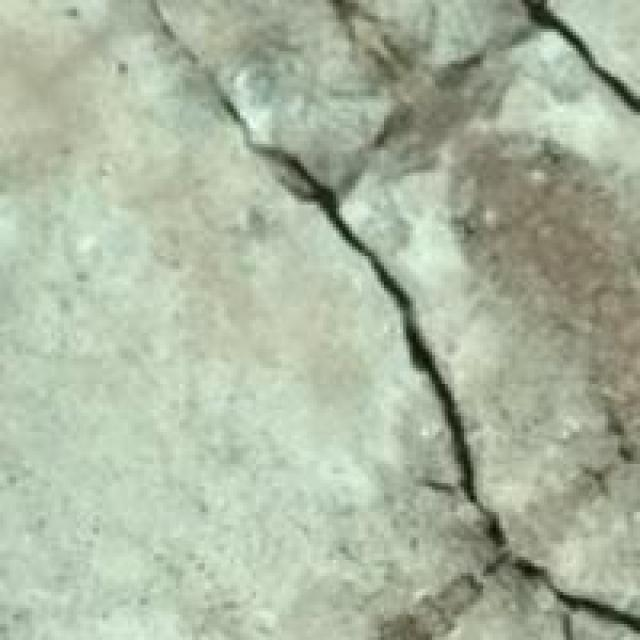crack: (214, 0, 637, 637)
